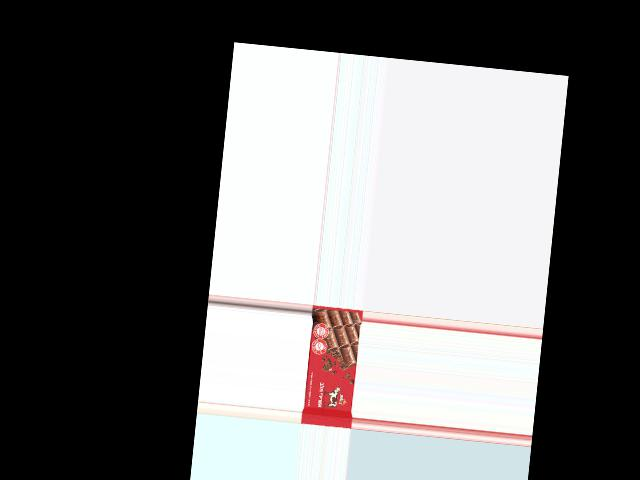chocolate: (300, 306, 362, 429)
